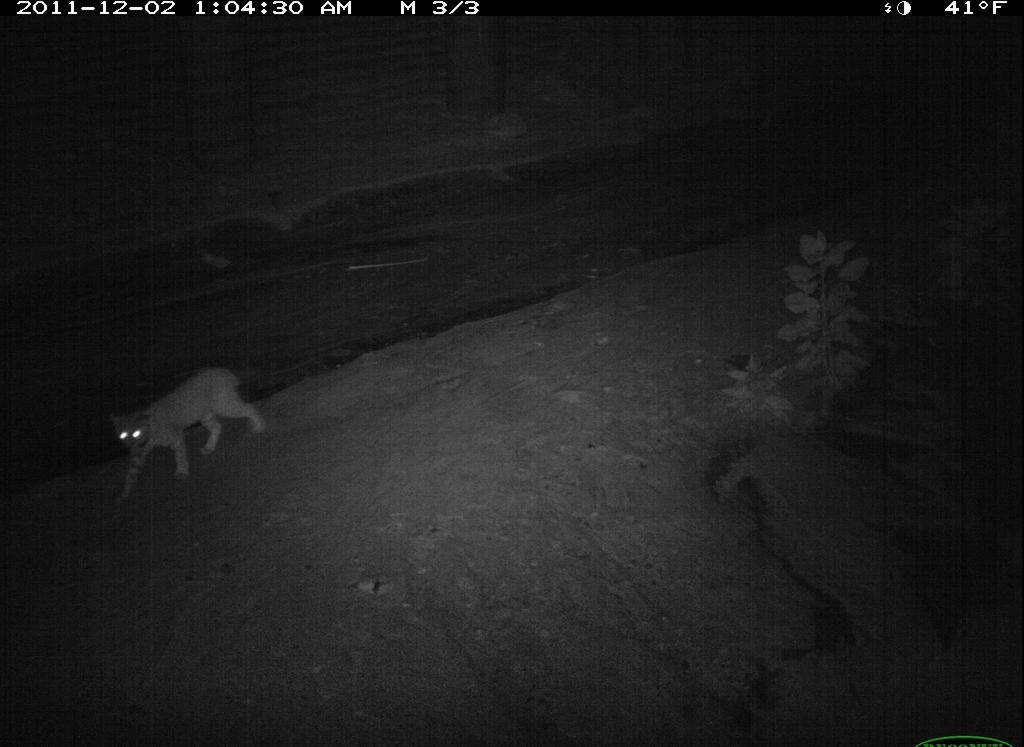bobcat: (104, 367, 269, 509)
